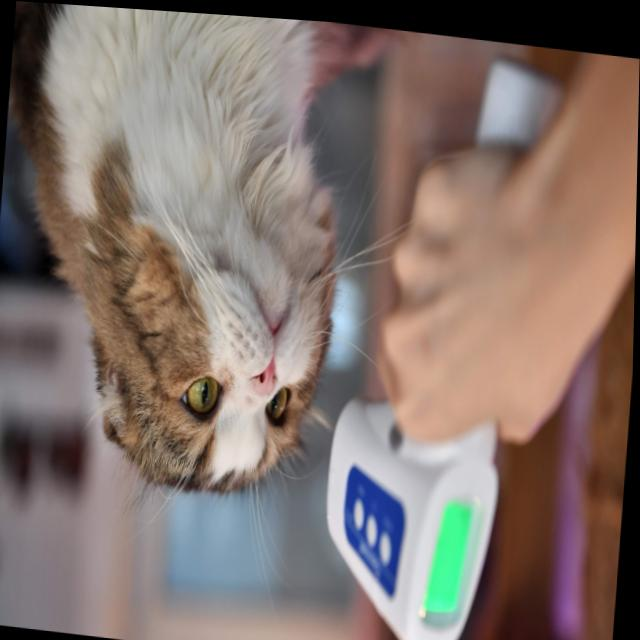Cat: (0, 0, 357, 627)
